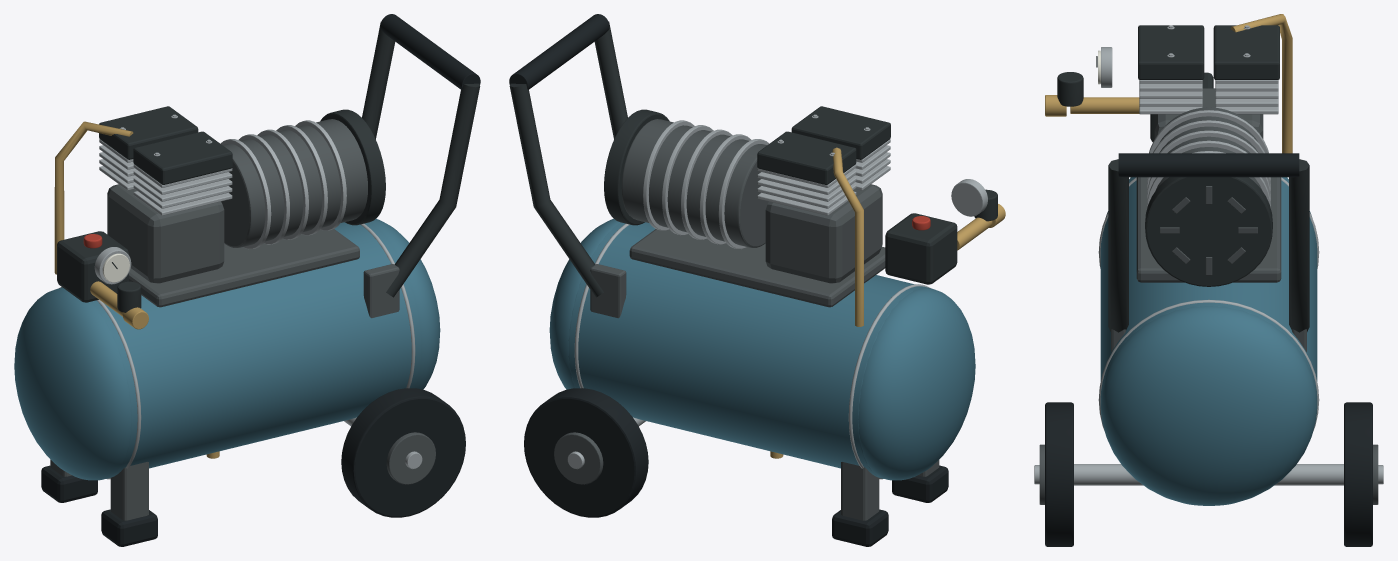
File: city-portable-air-compressor.glb
3 renders of one model, left to right at view 1: azimuth 30°, elevation 25°; view 2: azimuth 150°, elevation 25°; view 3: azimuth 270°, elevation 25°, orthographic. The views are drawn at different scales.
Parts seen in each view (by area): view 1: Assembly | Service blue enamel, Assembly | Rough cast iron, Assembly | Graphite machine powder coat, Assembly | Non-marking rubber, Assembly | Zinc plated steel, Assembly | Brass couplings, Assembly | Blank enamel indicator; view 2: Assembly | Service blue enamel, Assembly | Rough cast iron, Assembly | Graphite machine powder coat, Assembly | Non-marking rubber, Assembly | Zinc plated steel, Assembly | Brass couplings; view 3: Assembly | Service blue enamel, Assembly | Graphite machine powder coat, Assembly | Non-marking rubber, Assembly | Zinc plated steel, Assembly | Rough cast iron, Assembly | Brass couplings.
Part boxes in pixels (x1,y1,x2,y2): Assembly | Service blue enamel: [14, 218, 440, 480]; Assembly | Rough cast iron: [50, 119, 435, 520]; Assembly | Graphite machine powder coat: [57, 22, 480, 312]; Assembly | Non-marking rubber: [41, 14, 480, 546]; Assembly | Zinc plated steel: [59, 114, 422, 479]; Assembly | Brass couplings: [54, 121, 219, 458]; Assembly | Blank enamel indicator: [102, 253, 129, 282]; Assembly | Service blue enamel: [549, 218, 975, 480]; Assembly | Rough cast iron: [554, 119, 939, 520]; Assembly | Graphite machine powder coat: [509, 21, 997, 297]; Assembly | Non-marking rubber: [509, 14, 948, 546]; Assembly | Zinc plated steel: [567, 114, 987, 479]; Assembly | Brass couplings: [770, 147, 1005, 458]; Assembly | Service blue enamel: [1100, 177, 1317, 505]; Assembly | Graphite machine powder coat: [1057, 25, 1309, 332]; Assembly | Non-marking rubber: [1045, 153, 1372, 546]; Assembly | Zinc plated steel: [1034, 25, 1383, 485]; Assembly | Rough cast iron: [1039, 88, 1378, 504]; Assembly | Brass couplings: [1045, 14, 1292, 153].
Bounding box in the file's own units: 0.855 × 0.8 × 0.5794.
